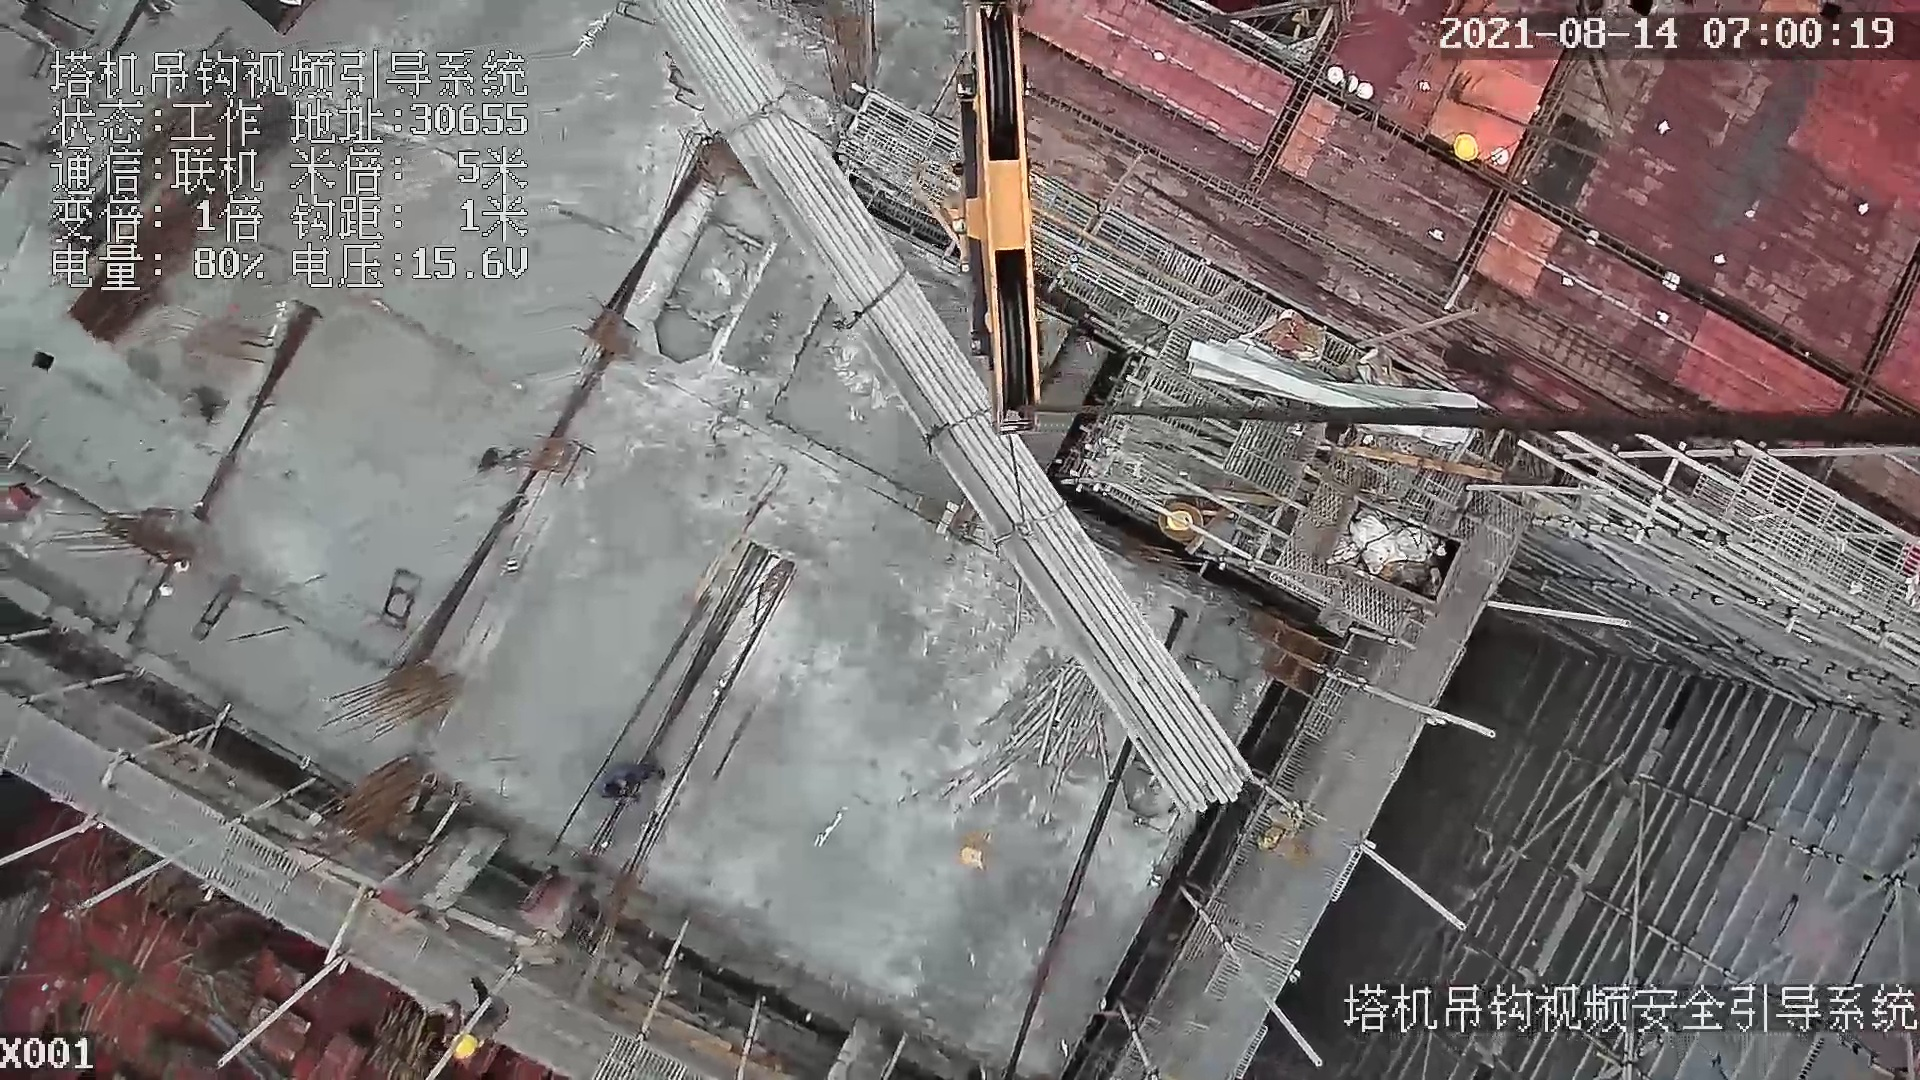helmet: (1454, 133, 1478, 161), (1167, 509, 1194, 531), (455, 1036, 477, 1059)
hook: (931, 1, 1056, 442)
person: (422, 977, 515, 1058), (595, 762, 670, 804)
rebar: (653, 1, 1256, 820)
